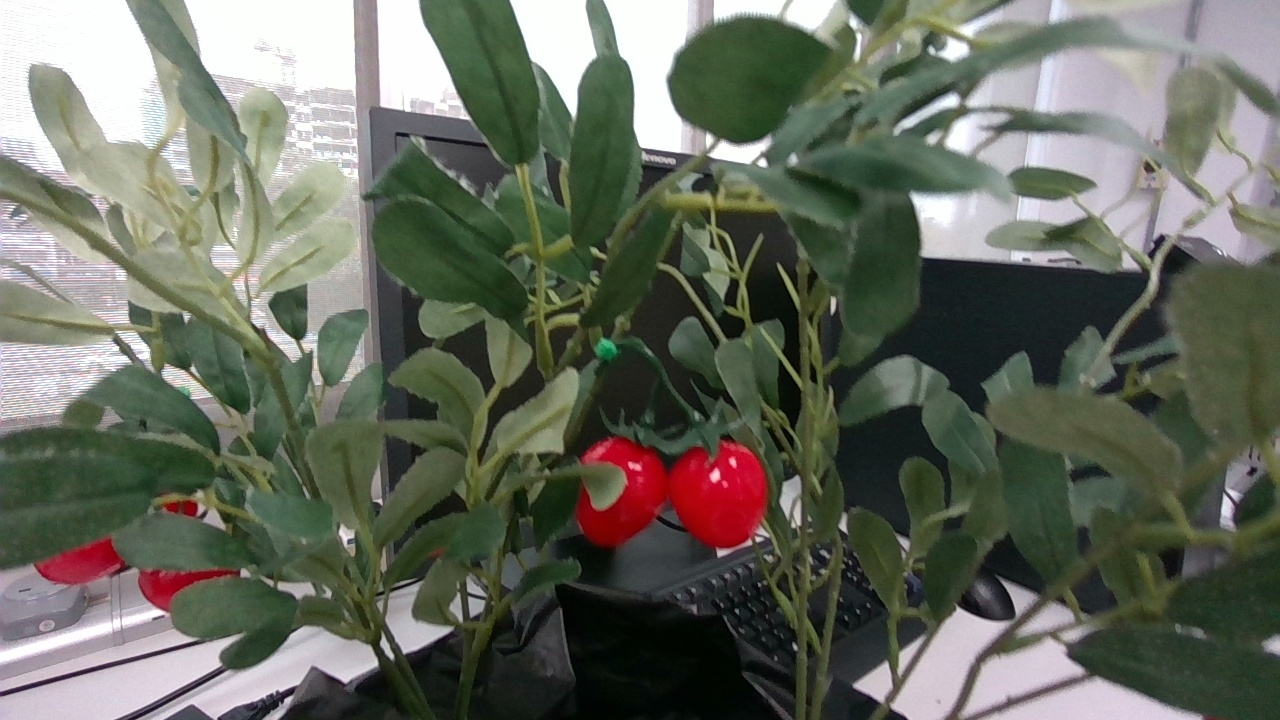peduncle: (631, 337, 665, 375)
strawberry: (669, 440, 769, 548), (576, 436, 668, 548), (137, 569, 238, 612), (34, 537, 123, 584), (160, 499, 197, 518)
